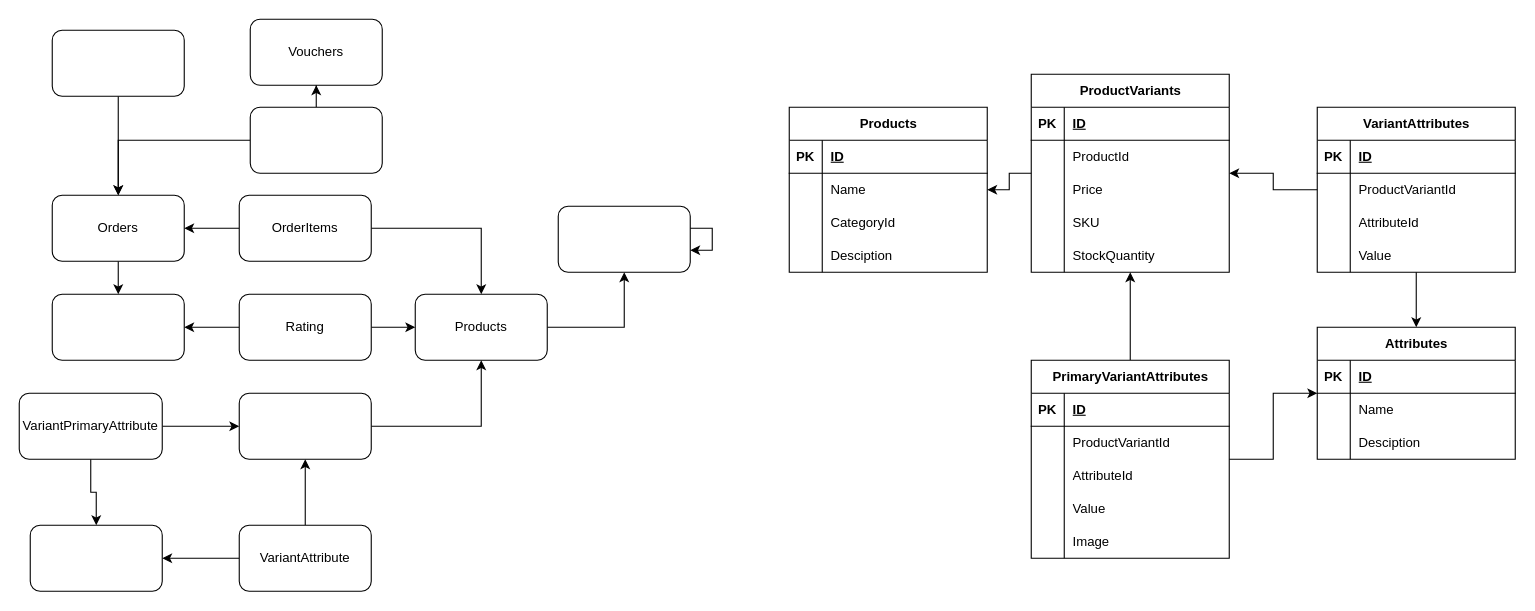
The diagram is 1535 pixels wide and 611 high, and some of its shapes have lost their labels. Each missing label, with the centre of its shape:
Attribute: the point at 95,557
Categories: the point at 623,238
Delivery: the point at 117,62
OrderVouchers: the point at 315,139
ProductVariations: the point at 304,425
Users: the point at 117,326
